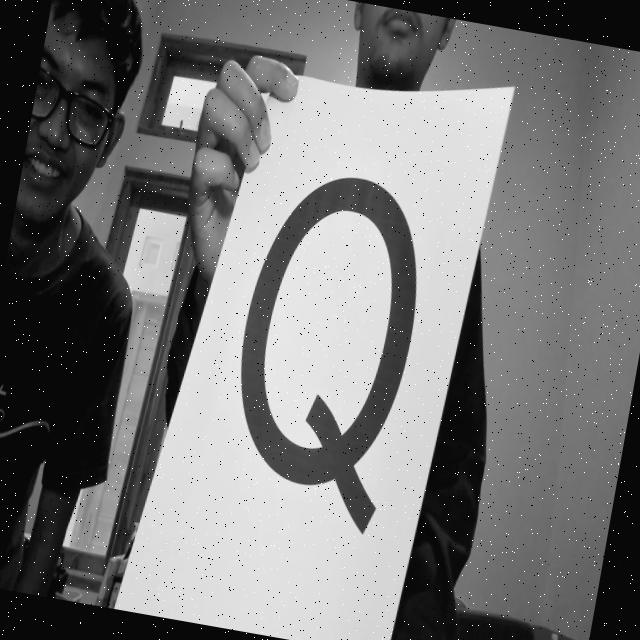q: (188, 141, 450, 544)
